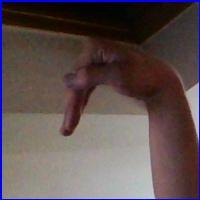del: (48, 31, 172, 139)
